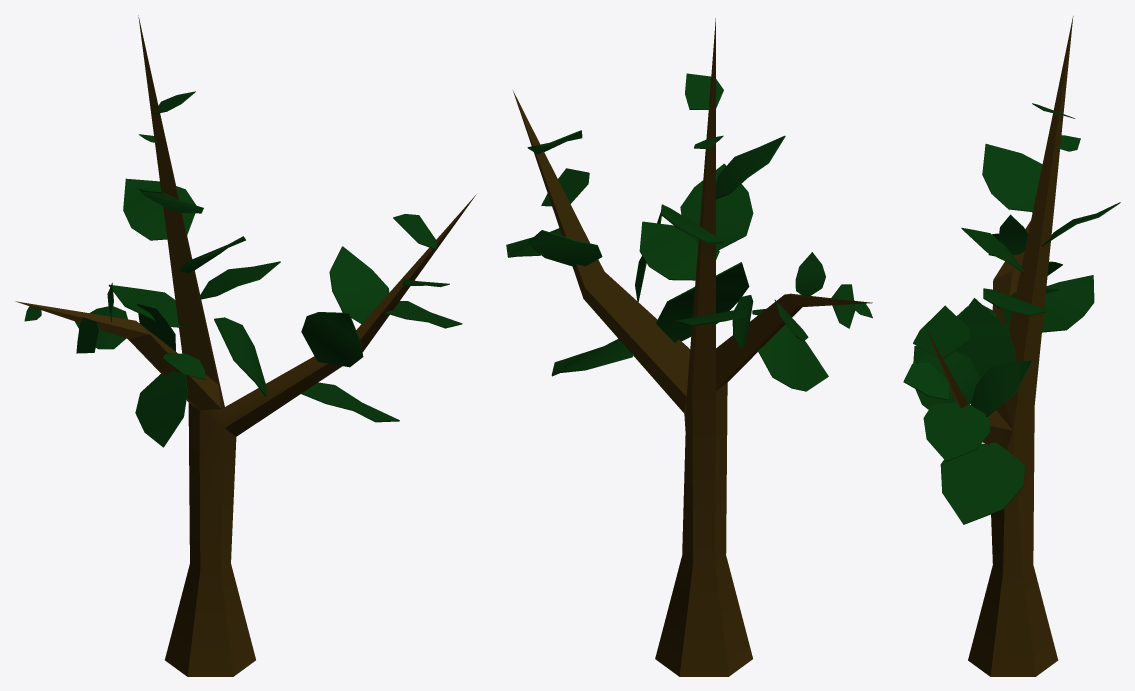
Rendered from herb.obj.
The picture shows the model from 3 angles, left to right: view 1: azimuth 30°, elevation 25°; view 2: azimuth 150°, elevation 25°; view 3: azimuth 270°, elevation 25°; orthographic projection. The views are drawn at different scales.
Visible parts, largest first — view 1: group3_stem1; view 2: group3_stem1; view 3: group3_stem1.
Part boxes in pixels (left/top/right/bottom): group3_stem1: left=15, top=15, right=476, bottom=676; group3_stem1: left=506, top=18, right=872, bottom=676; group3_stem1: left=903, top=16, right=1120, bottom=676.
Bounding box in the file's own units: 3.99 × 6.03 × 1.9.
